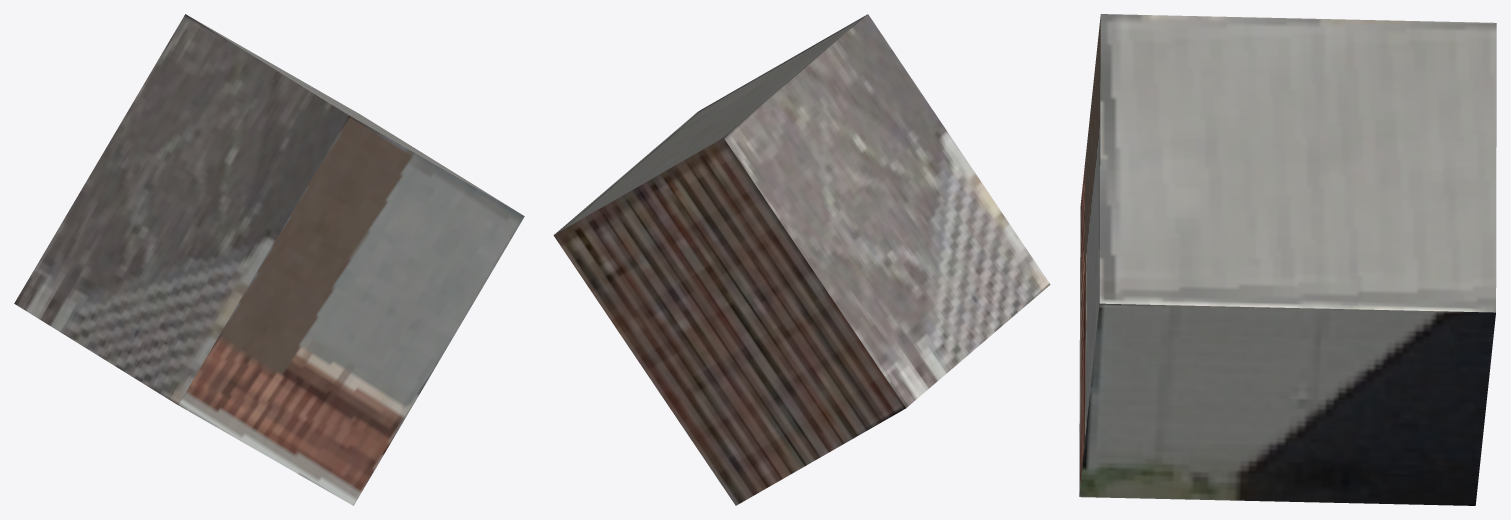
3 views of the same model, side by side, from view 1: azimuth 30°, elevation 25°; view 2: azimuth 150°, elevation 25°; view 3: azimuth 270°, elevation 25° (orthographic). The views are drawn at different scales.
Visible parts, largest first — view 1: BAG_0599100100019946; view 2: BAG_0599100100019946; view 3: BAG_0599100100019946.
Part boxes in pixels (x1,y1,x2,y2): BAG_0599100100019946: (14, 14, 524, 505); BAG_0599100100019946: (553, 14, 1050, 505); BAG_0599100100019946: (1079, 14, 1496, 505).
Bounding box in the file's own units: 3.34 × 3.48 × 2.63.
1 material, 1 textured.
